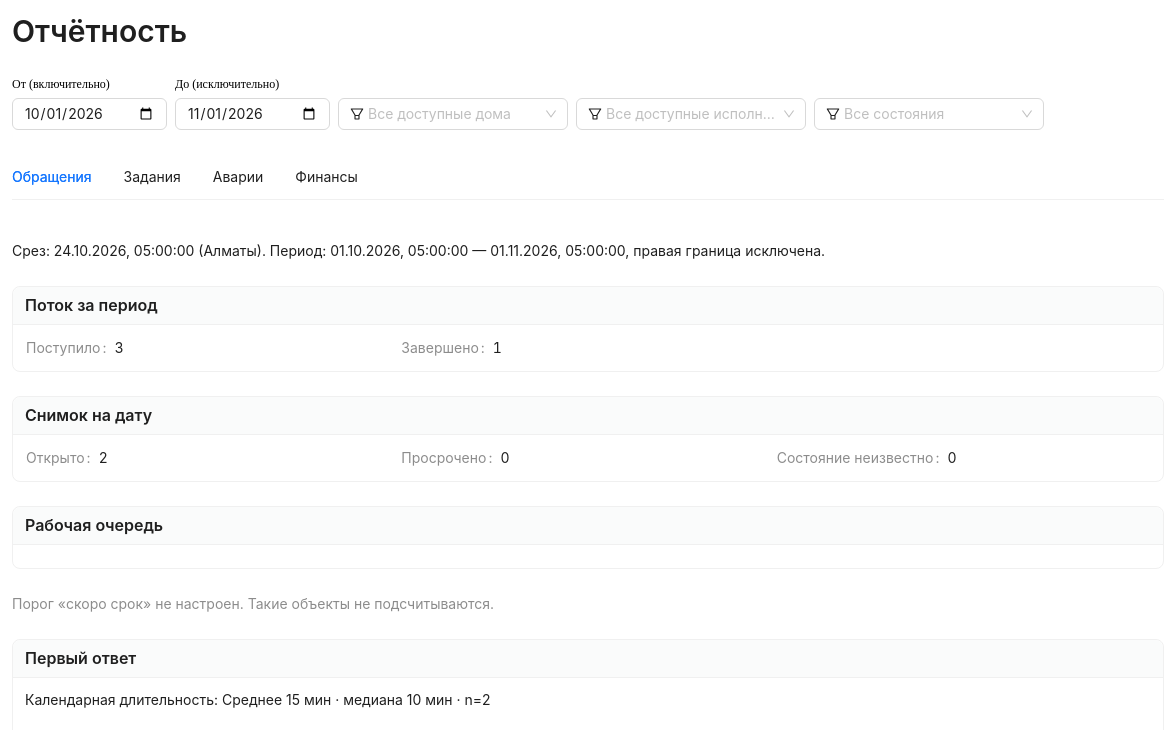
Test: недоступность VS-6 не отображает фиктивные финансовые нули
This screenshot has width=1164, height=730.
Check: the heading "Поток за период" is shown, box 25,295 -> 158,315
Click the tab "Финансы" at (327, 177), box 295,166 -> 358,188
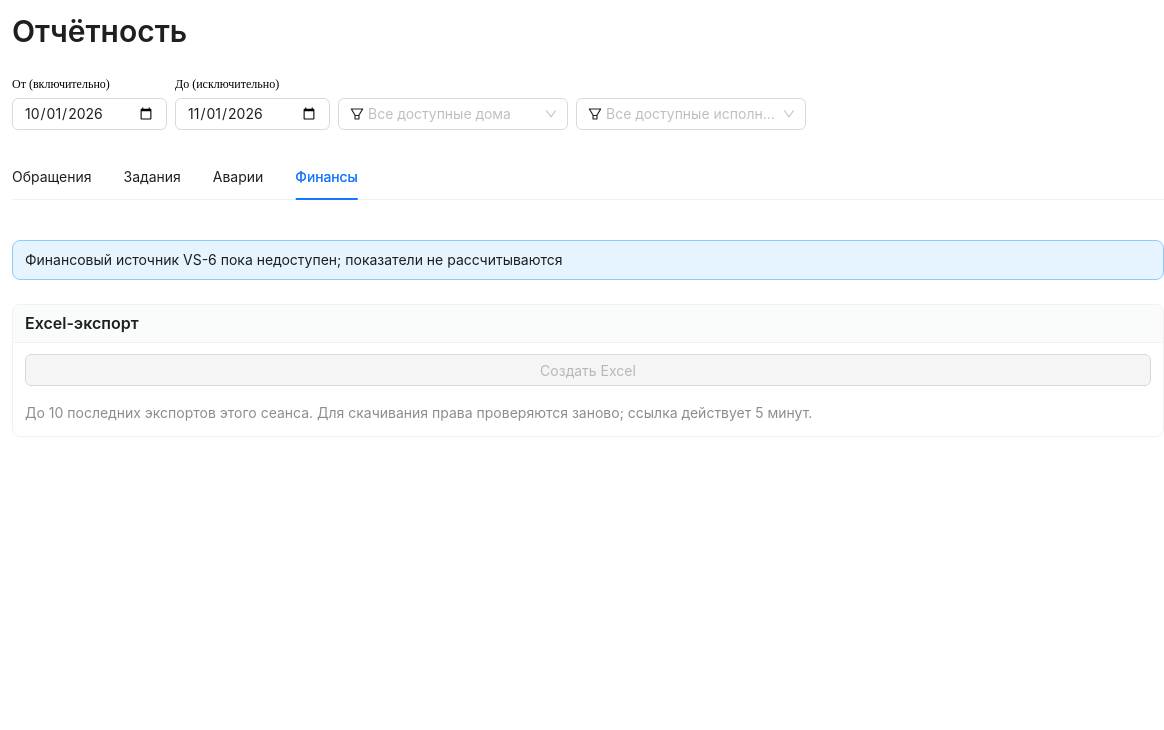
Check: the text "Финансовый источник VS-6 пока недоступен" is shown, box 25,251 -> 563,268
Check: the heading "Поток за период" is gone
